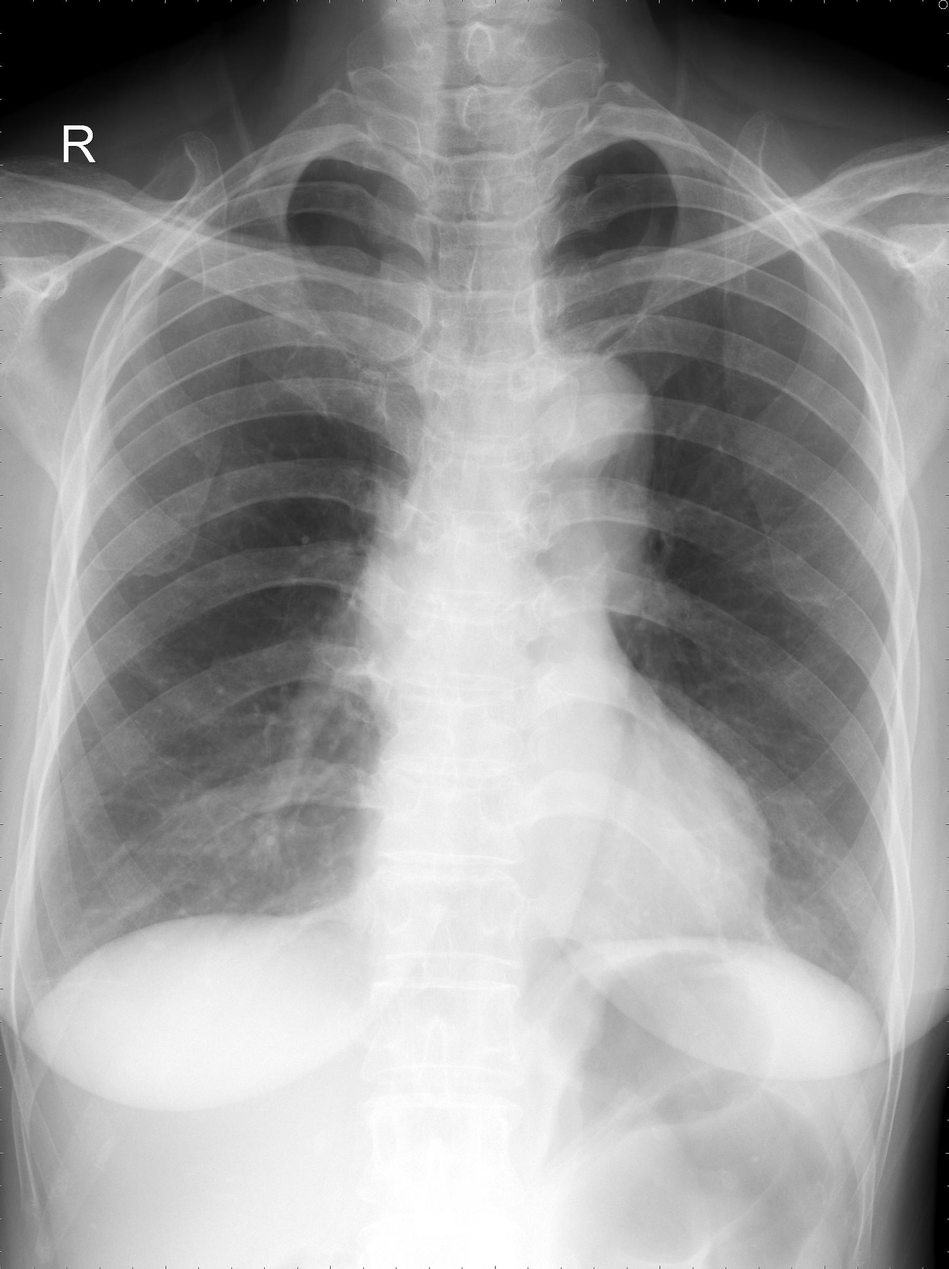Aortic enlargement: (509, 349, 652, 528)
